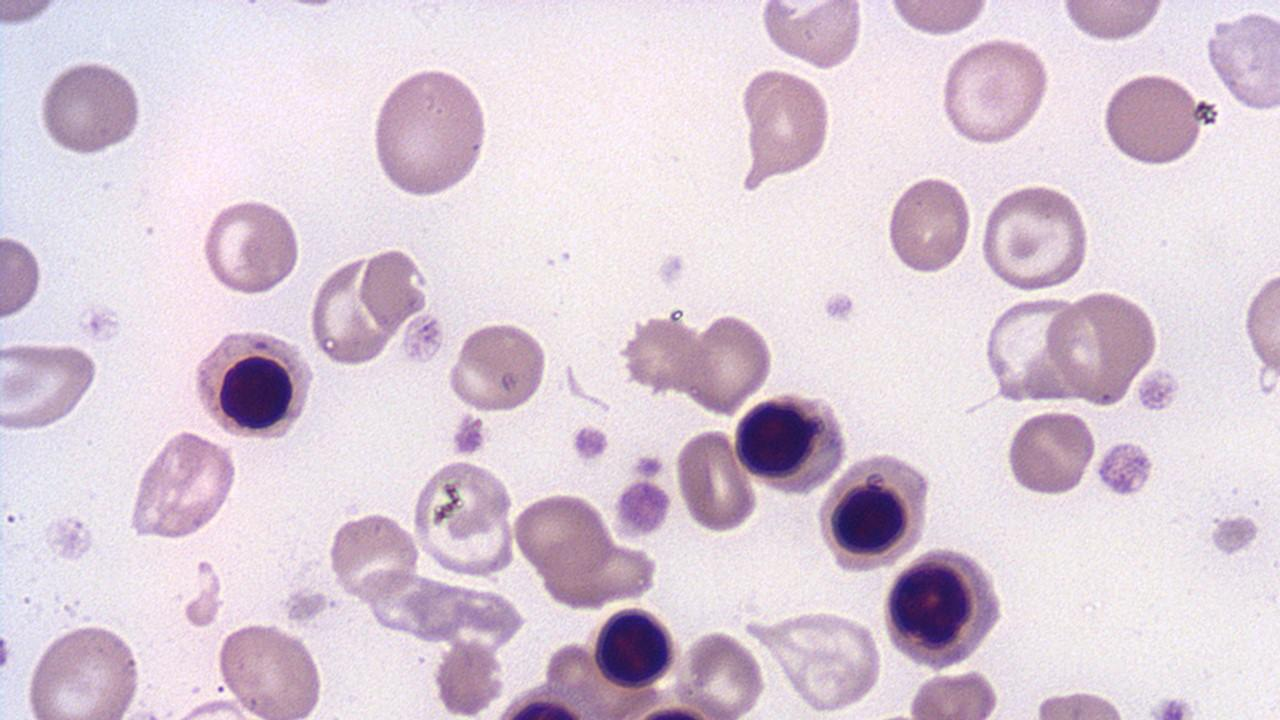Platelets: (612, 477, 672, 542), (1092, 439, 1156, 498), (41, 513, 99, 564), (1205, 510, 1261, 558), (569, 422, 611, 462), (450, 412, 486, 458), (1146, 690, 1198, 720), (652, 251, 690, 290), (820, 288, 859, 324), (630, 452, 666, 480)
RBC: (368, 61, 491, 202), (880, 550, 1005, 672), (195, 326, 321, 442), (816, 452, 934, 574), (124, 426, 243, 542), (1044, 288, 1162, 404), (978, 180, 1094, 294), (937, 34, 1053, 147), (409, 455, 515, 578), (734, 66, 834, 195), (764, 609, 882, 713), (23, 620, 147, 718), (214, 619, 328, 718), (981, 292, 1083, 402), (36, 57, 144, 159), (198, 195, 305, 297), (1100, 70, 1210, 169), (308, 251, 395, 367), (883, 171, 974, 278), (0, 338, 100, 434), (684, 310, 775, 415), (446, 322, 551, 413), (674, 426, 758, 534), (324, 512, 422, 602), (1005, 405, 1097, 500), (1204, 4, 1280, 115), (510, 491, 616, 570), (674, 628, 766, 716), (732, 390, 816, 484), (754, 0, 864, 71), (358, 243, 433, 340), (618, 312, 703, 396), (592, 604, 672, 690), (432, 639, 507, 717), (903, 667, 1005, 717), (1055, 1, 1169, 43), (1242, 265, 1280, 390), (0, 228, 47, 326), (883, 0, 994, 38), (0, 0, 68, 30)
WBC: (4, 0, 504, 720), (800, 0, 1278, 694), (190, 320, 320, 442), (820, 451, 934, 573), (124, 426, 239, 543)
